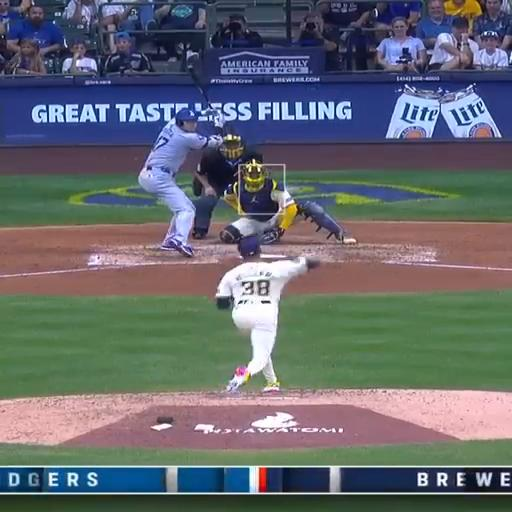bat: (186, 54, 214, 109)
